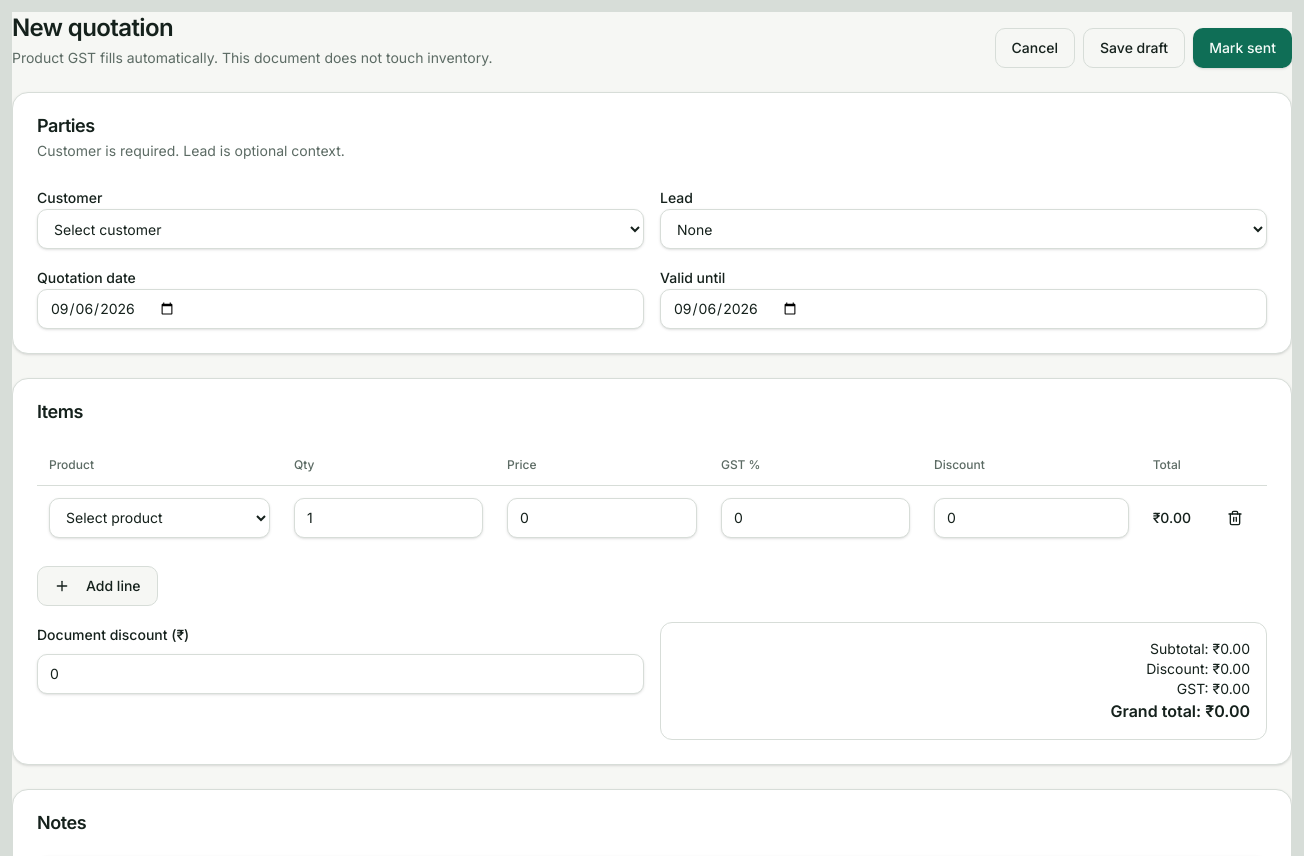
quotation GST snapshot UI › fills GST from the product and shows tax on ₹40,000 at 18%
Expected: the dropdown labelled "Customer" is shown, [37,209,644,249]
Select "Kent Grand (KENT-GRAND)" in the dropdown named "Product" at coordinates (160, 518), box [49,498,270,538]
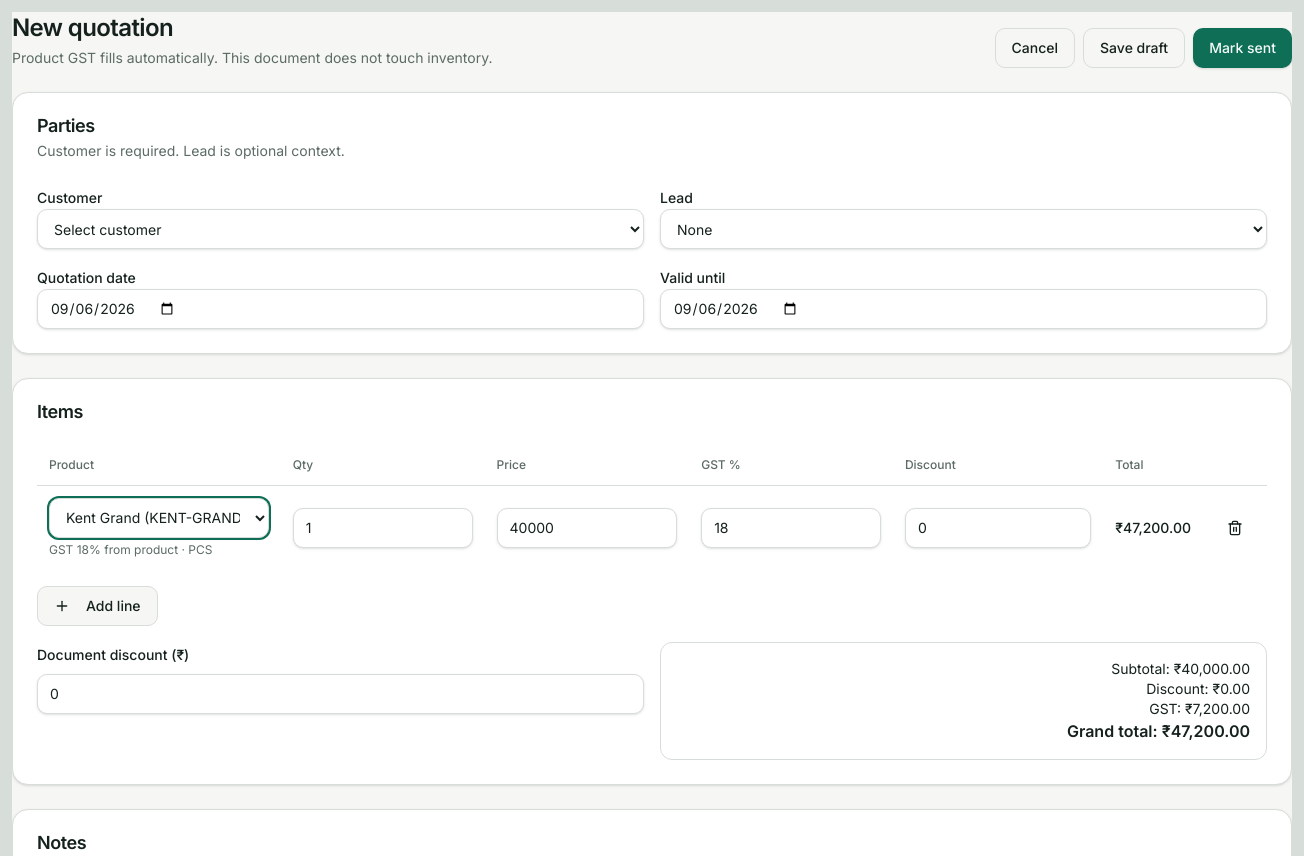
Expected: the text with test id "quote-tax" shows "₹7,200.00", [1185,700,1250,716]
Expected: the text with test id "quote-grand" shows "₹47,200.00", [1162,720,1250,740]
